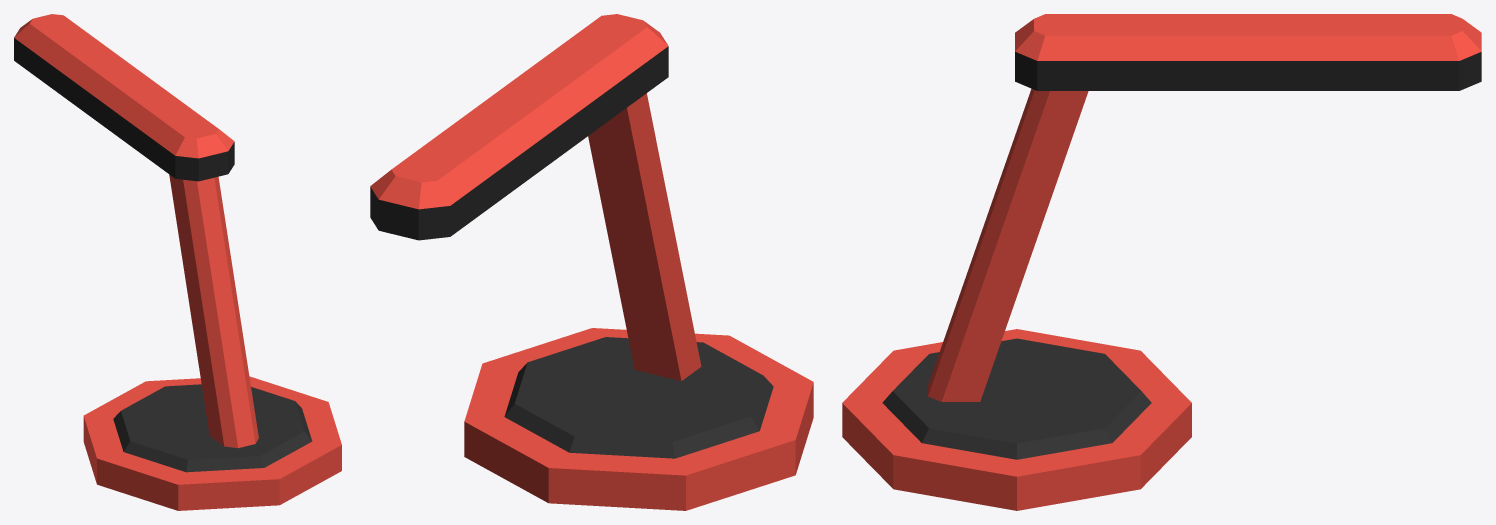
The model's file is mesh_flexo.fbx.
3 views of the same model, side by side, from view 1: azimuth 30°, elevation 25°; view 2: azimuth 150°, elevation 25°; view 3: azimuth 270°, elevation 25° (orthographic). The views are drawn at different scales.
Parts seen in each view (by area): view 1: mesh_tech_flexo_01; view 2: mesh_tech_flexo_01; view 3: mesh_tech_flexo_01.
Boxes of the visible parts, x1=… form: mesh_tech_flexo_01: x1=14, y1=14, x2=341, y2=510; mesh_tech_flexo_01: x1=370, y1=14, x2=813, y2=510; mesh_tech_flexo_01: x1=842, y1=14, x2=1481, y2=510.
Size of the model in its own units: 6.69 by 8.71 by 12.24.
